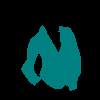giacca: (20, 24, 81, 90)
